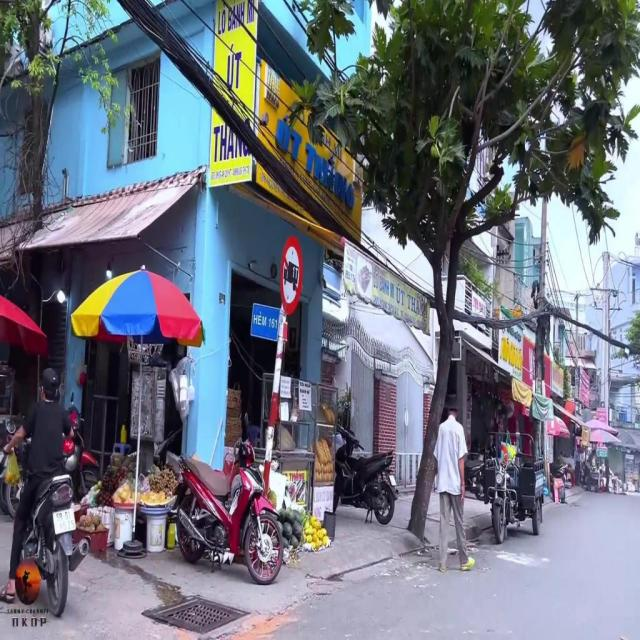cam_o_to_tai: (280, 236, 302, 315)
